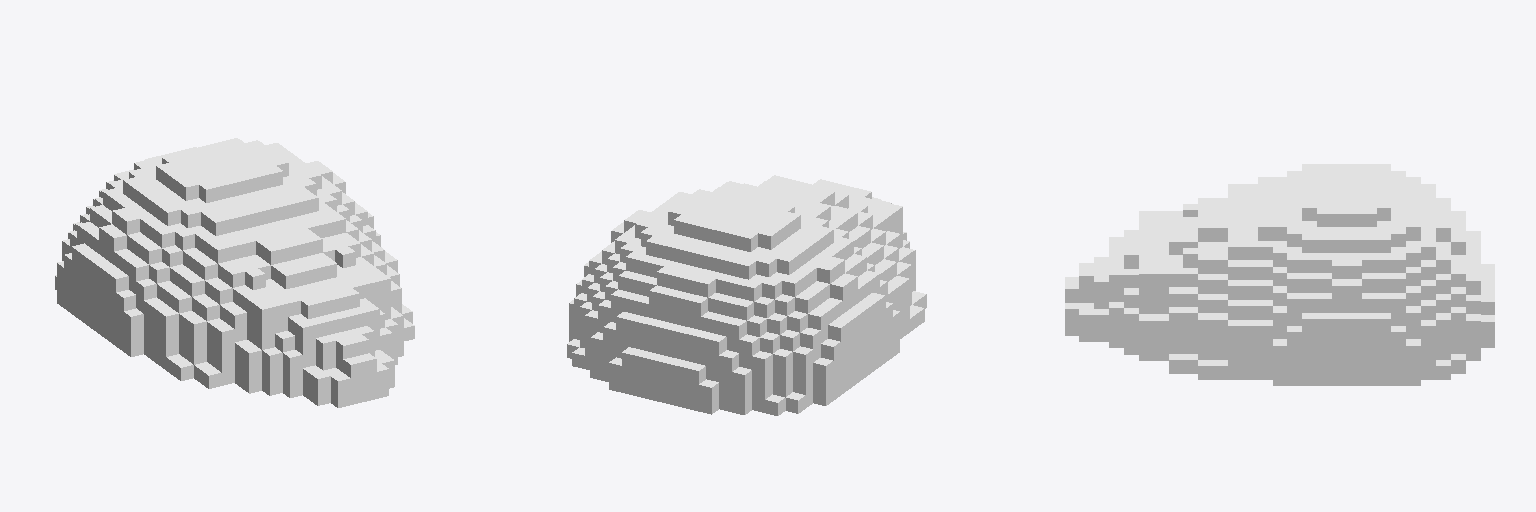
Rendered from mouse_body.obj.
3 renders of one model, left to right at view 1: azimuth 30°, elevation 25°; view 2: azimuth 150°, elevation 25°; view 3: azimuth 270°, elevation 25°, orthographic.
Size of the model in its own units: 20 by 10 by 29.